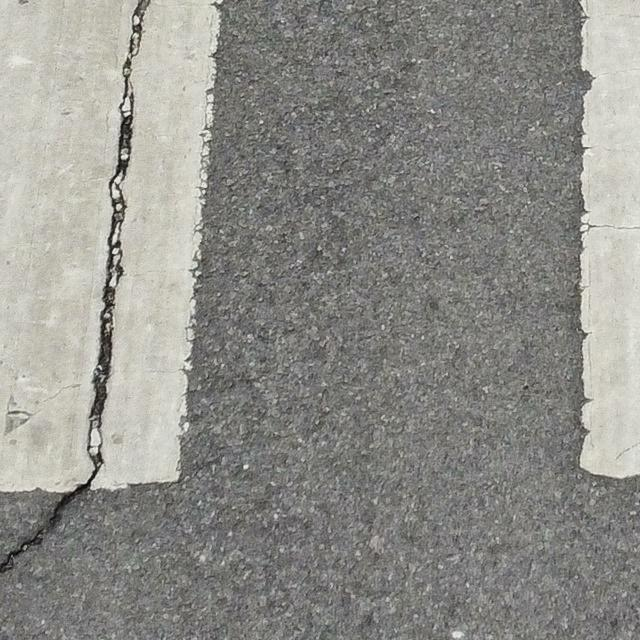LongitudinalCrack: (1, 1, 154, 573)
